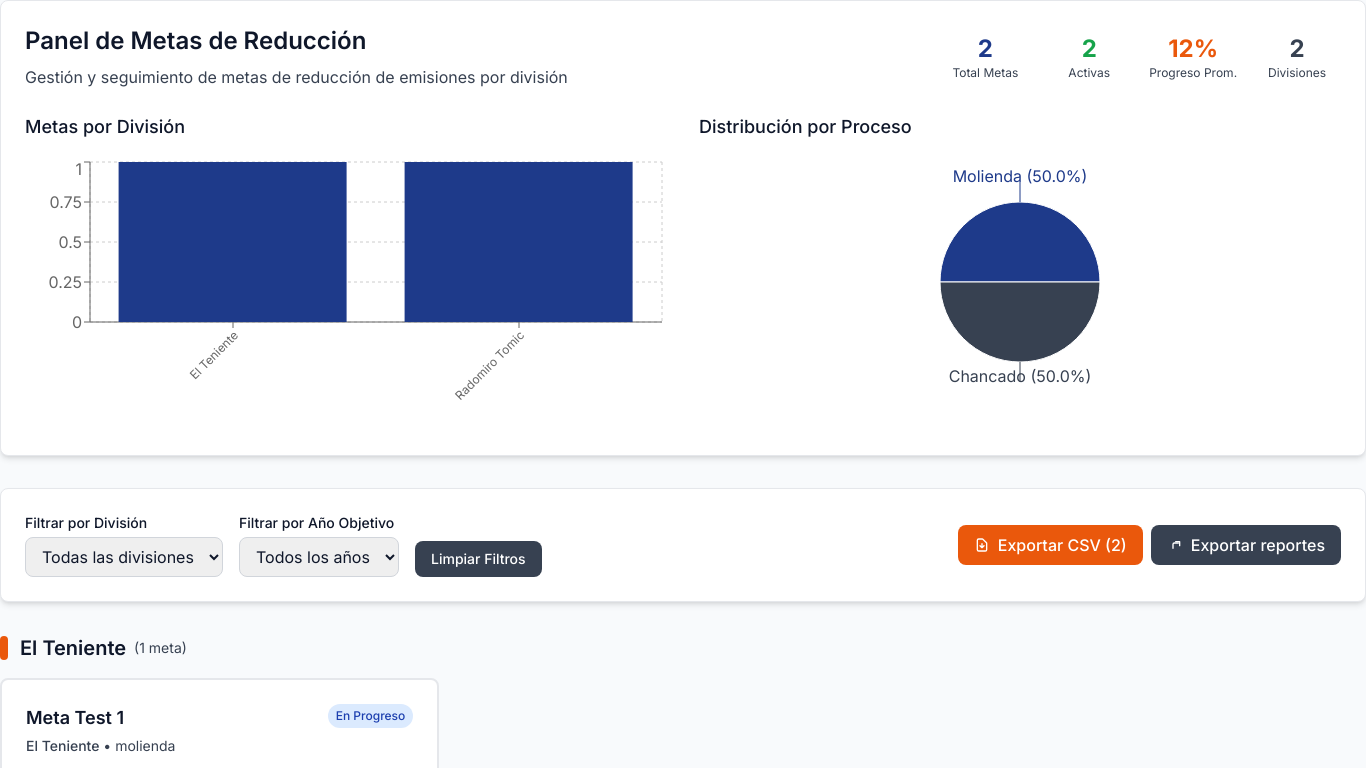
PanelMetas › debe manejar exportación de CSV
The width and height of the screenshot is (1366, 768).
Expected: the heading "Panel de Metas de Reducción" is shown, [25,26,366,55]
// Hacer clic en exportar
Click the button "Exportar CSV (2)" at (1050, 545), box [958,525,1143,565]
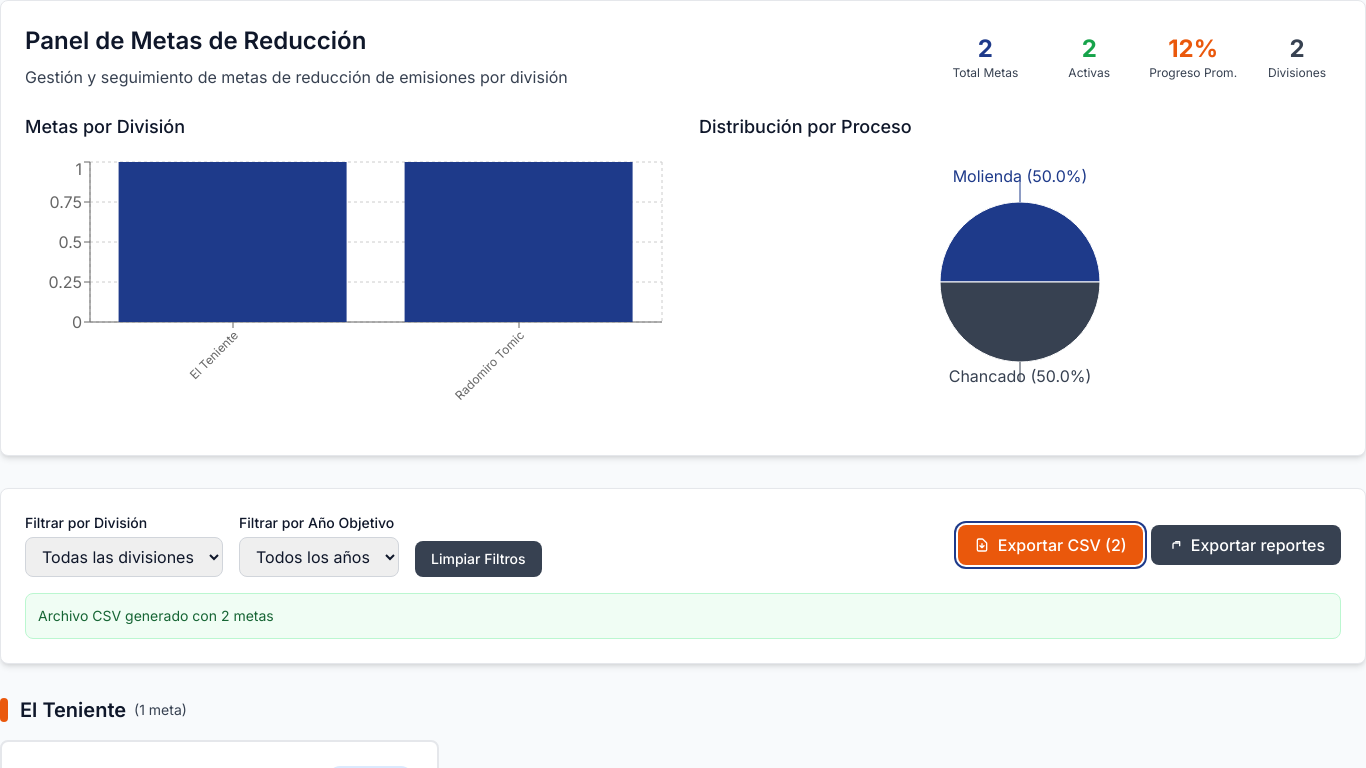
Expected: the text "Archivo CSV generado con 2 metas" is shown, [25,593,1341,639]
